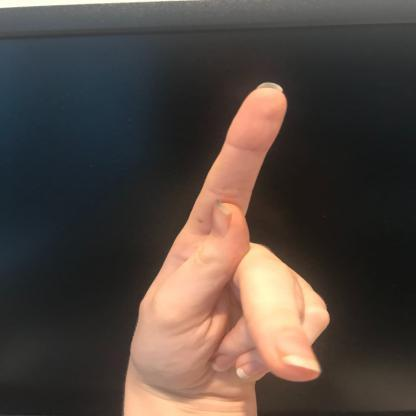P: (122, 78, 335, 398)
